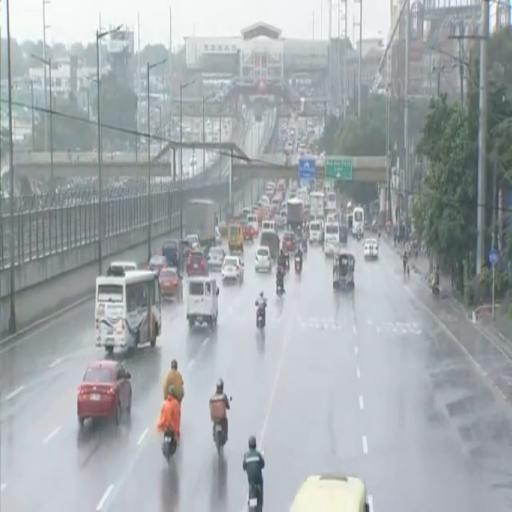bus: (95, 269, 161, 354), (352, 207, 364, 235), (325, 191, 336, 212)
car: (77, 360, 131, 426), (289, 474, 369, 511), (159, 268, 182, 301), (222, 255, 244, 283), (186, 250, 208, 275), (162, 239, 181, 267), (208, 247, 226, 271), (255, 247, 272, 271), (107, 262, 137, 275), (149, 255, 167, 274), (364, 239, 378, 259), (282, 232, 296, 252), (274, 209, 287, 229), (242, 222, 255, 242), (184, 234, 200, 250), (215, 227, 222, 245)
motorcycle: (162, 430, 177, 462), (213, 422, 227, 455), (213, 423, 226, 455), (248, 485, 261, 511), (256, 307, 265, 328), (295, 256, 302, 274), (301, 238, 308, 254), (276, 280, 283, 296), (432, 284, 439, 298), (285, 254, 289, 271), (357, 232, 362, 241)
truck: (184, 199, 217, 251), (287, 198, 304, 234), (310, 191, 324, 219)
